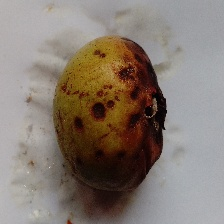guava: (7, 42, 192, 206)
